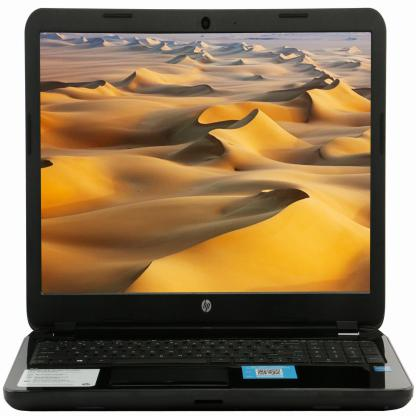Normal: (29, 12, 382, 319)
